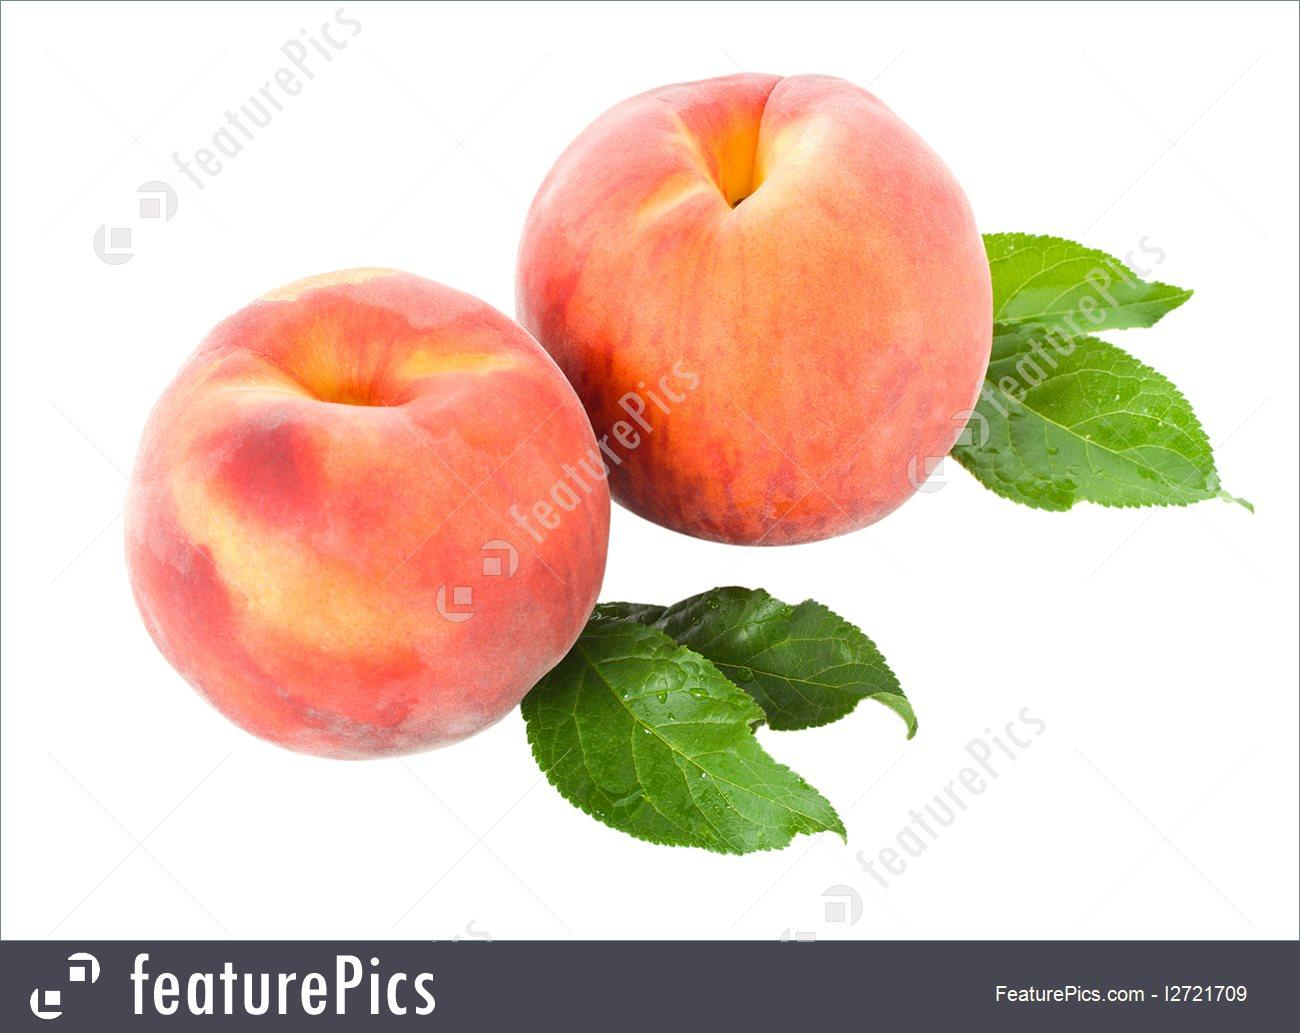Peach leaf: (523, 621, 855, 866), (953, 334, 1259, 527), (648, 589, 928, 735), (963, 235, 1213, 339)
